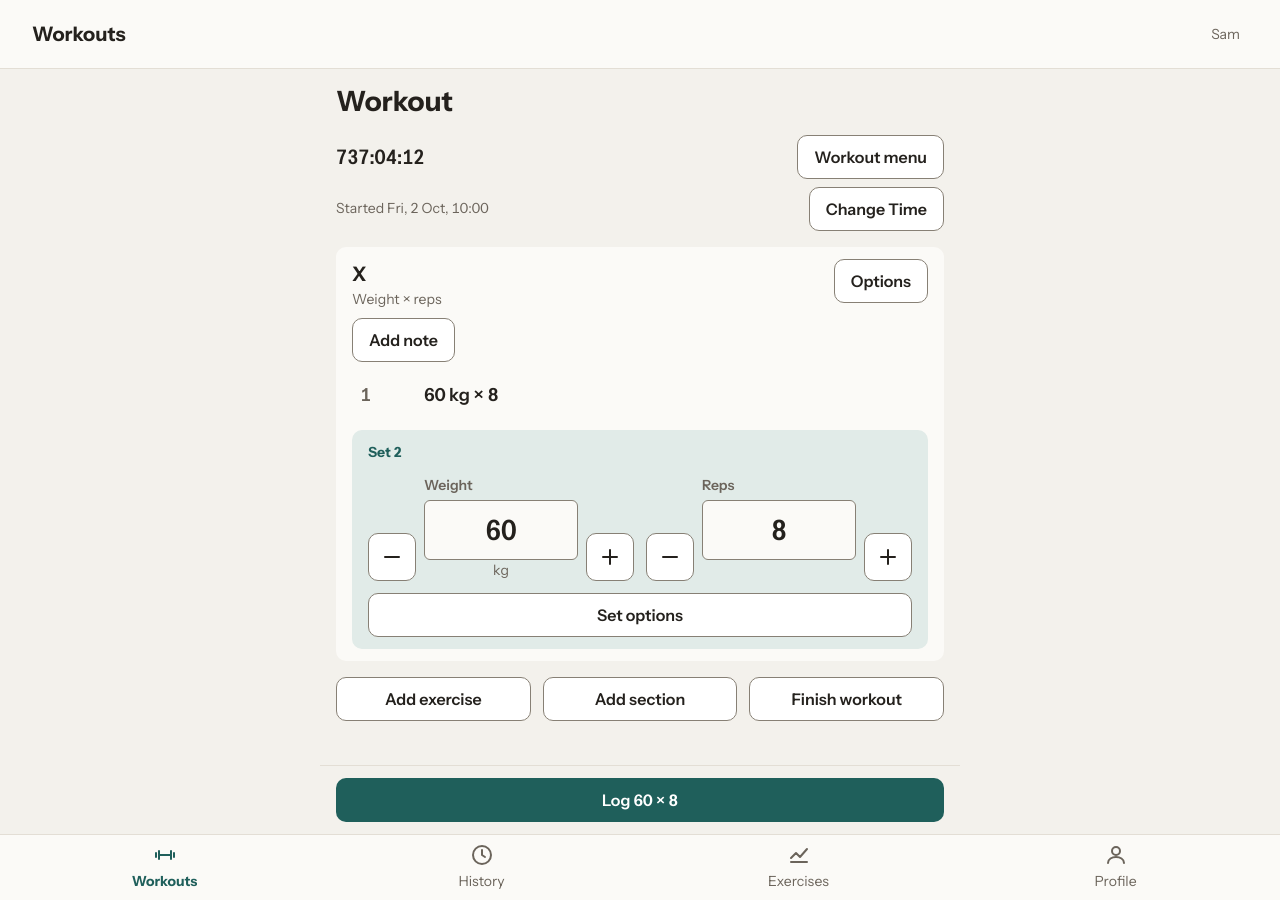
Test: 06.2 AC14 — every set row shows its sync state › pending rows say 'Not saved yet' and can still be edited; synced rows say nothing
Expected: the heading "Workout" is shown, [336,84,453,118]
Replace the text in the field labelled "Reps" with "5": point(779, 530) [702,500,856,560]
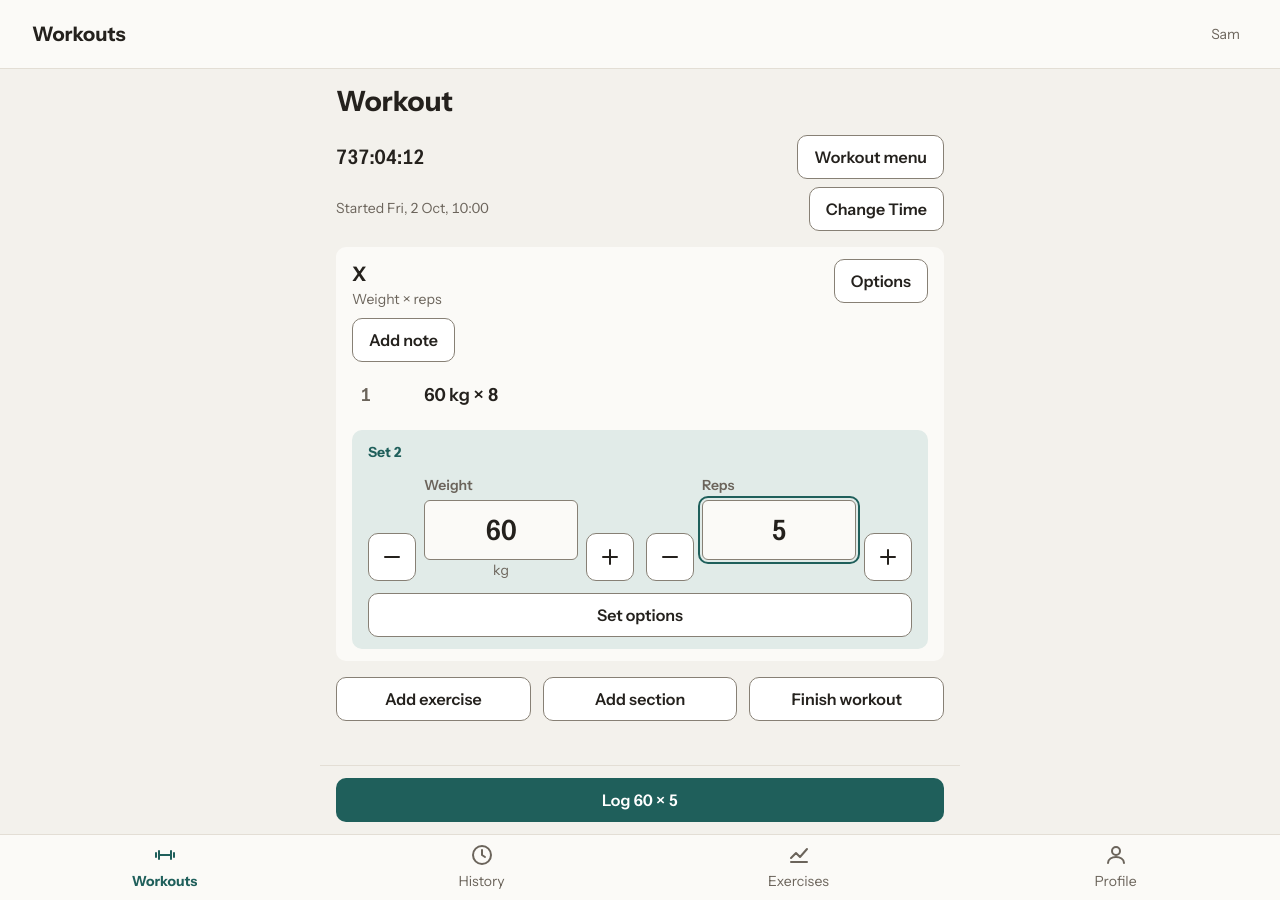
Click the button "Log 60 × 5": point(640, 800) [336,778,944,822]
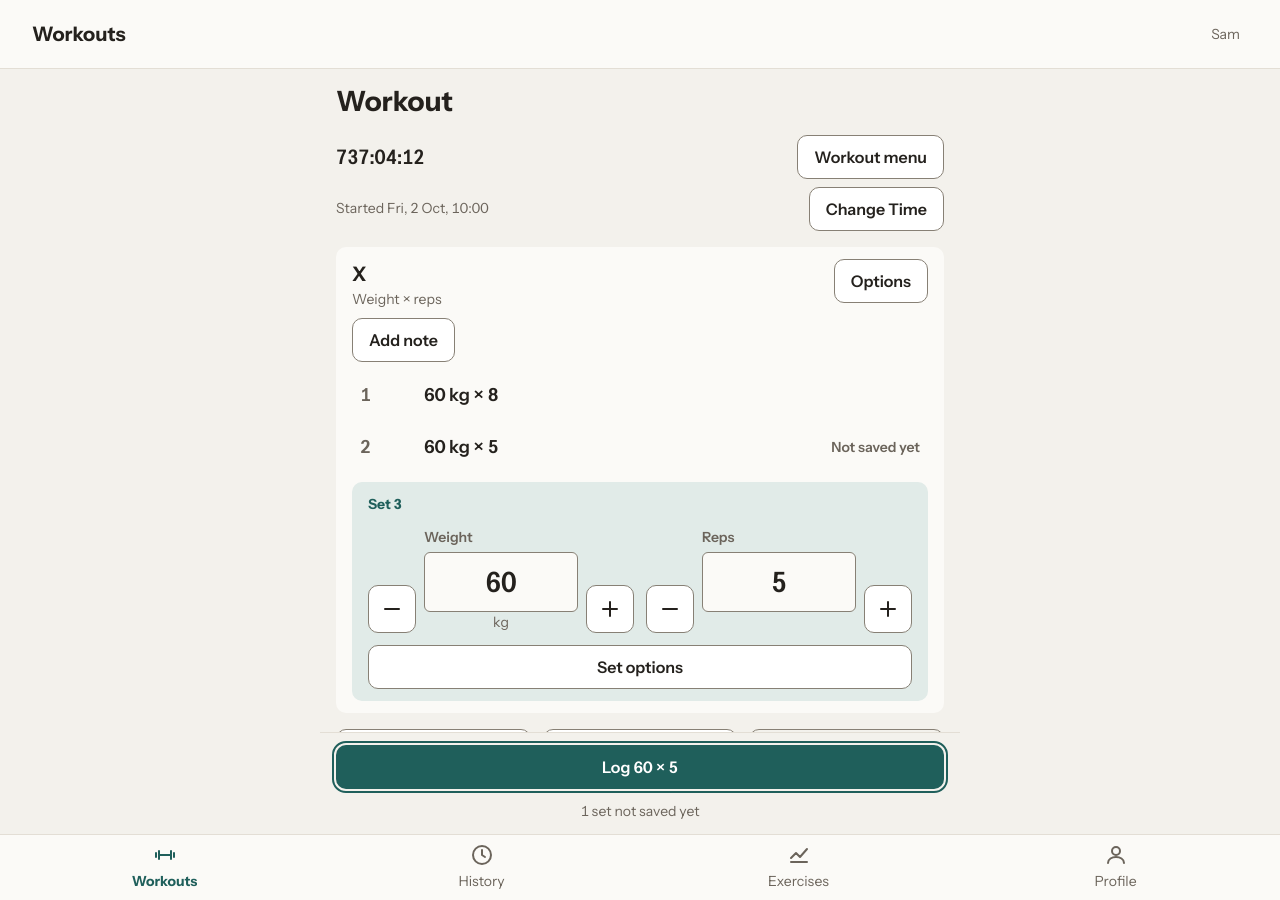
Expected: the button "1 60 kg × 8" does not show "Not saved yet", [352,374,928,418]
Result: the button "2 60 kg × 5 Not saved yet" is shown
Click the button "2 60 kg × 5 Not saved yet": point(461, 447) [352,426,928,470]
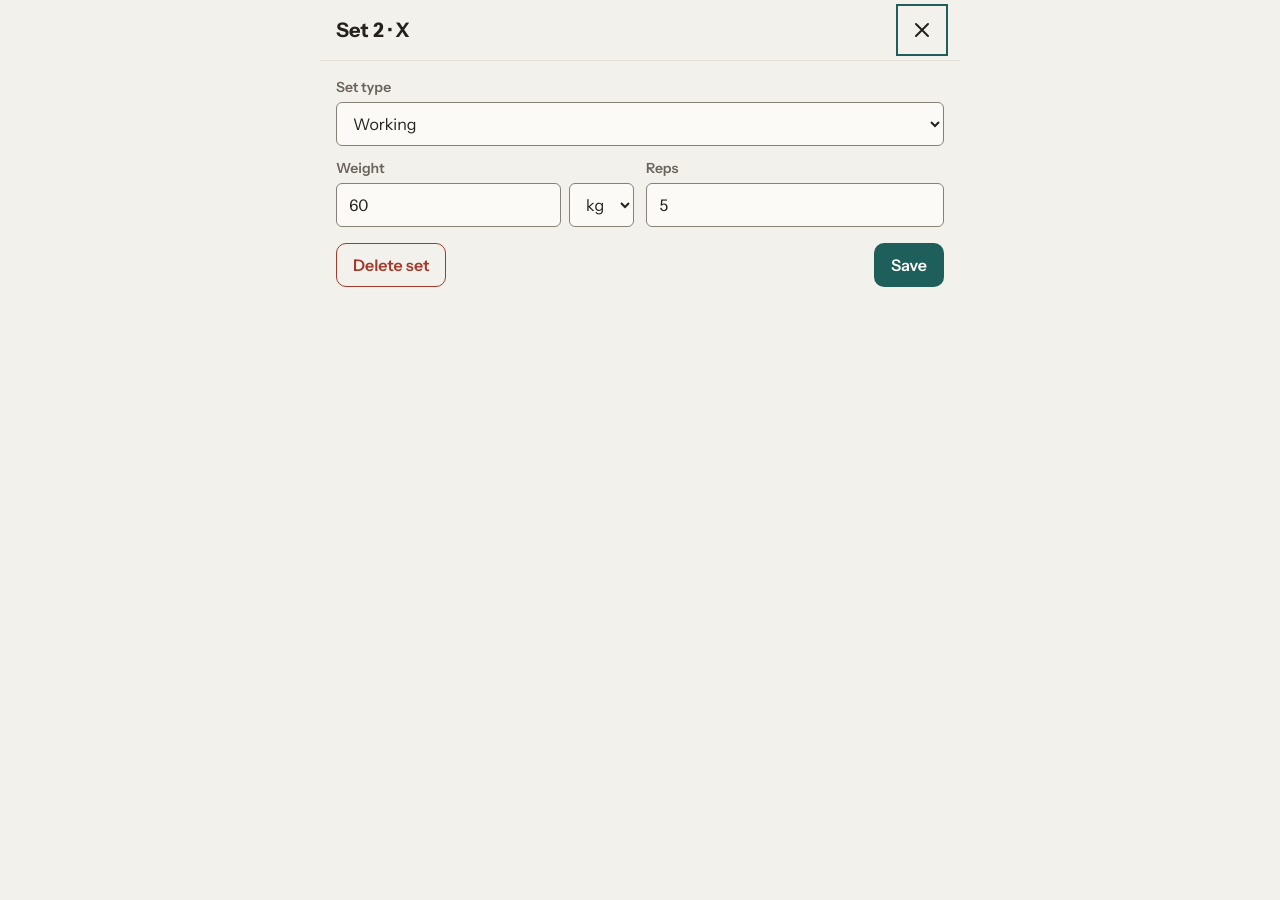
Result: the dialog "Set 2 · X Set type Weight Reps Delete set Save" is shown at [320,0,960,899]
